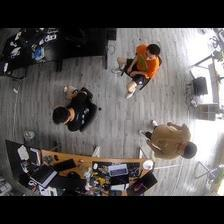normal: (112, 41, 164, 98), (136, 119, 197, 160), (53, 85, 98, 132)
